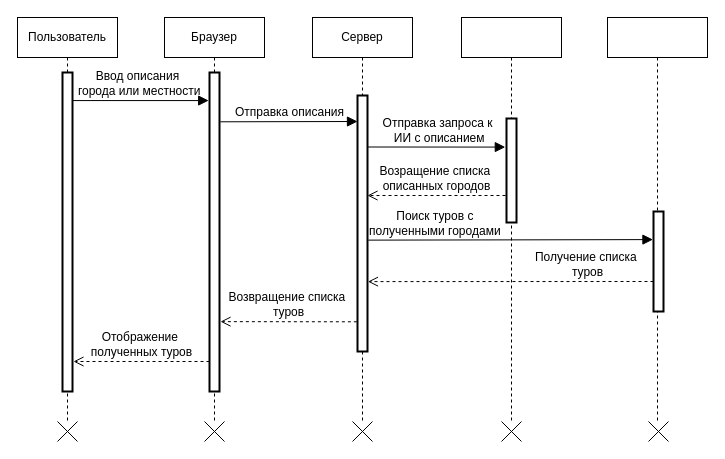
This 725x459 diagram has some shape labels left out. The shapes that lost their labels are listed below. From the top down, each one's box as (x1, y1, x2, y2) in pixels, then its label:
(460, 16, 562, 422): ИИ
(606, 16, 708, 422): БД
